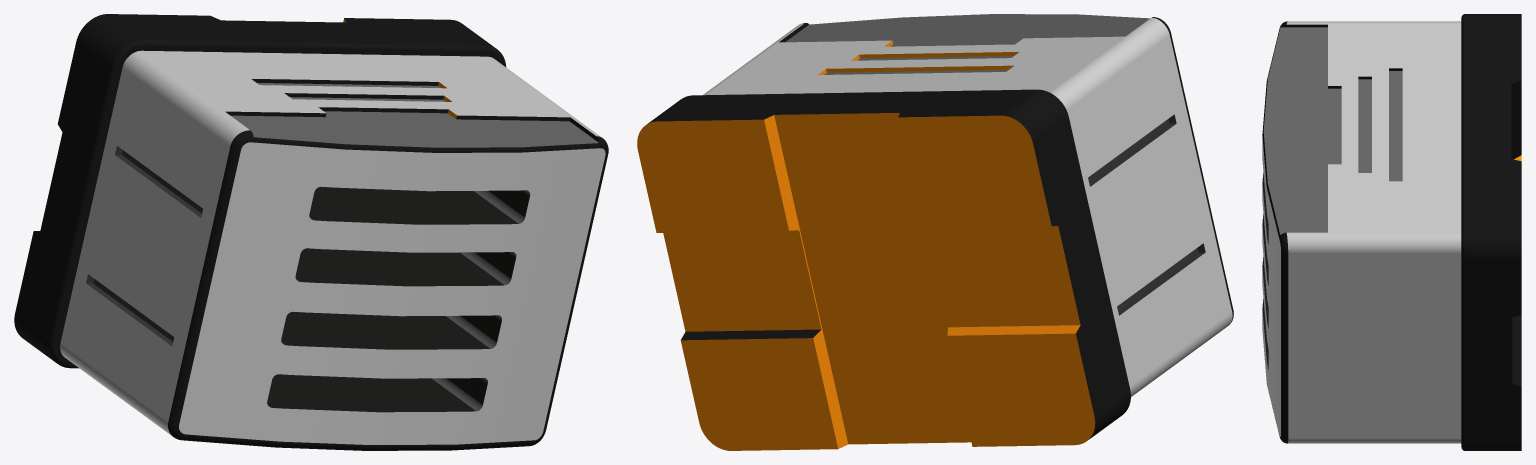
The model's file is toaster.obj.
3 views of the same model, side by side, from view 1: azimuth 30°, elevation 25°; view 2: azimuth 150°, elevation 25°; view 3: azimuth 270°, elevation 25° (orthographic). The views are drawn at different scales.
Visible parts, largest first — view 1: mesh74, mesh63, mesh22, mesh48, mesh18, mesh53, mesh77, mesh86, mesh104, mesh95, mesh33, mesh12 (+16 smaller); view 2: mesh55, mesh63, mesh22, mesh57, mesh56, mesh47, mesh46, mesh61, mesh50, mesh48, mesh18, mesh53 (+10 smaller); view 3: mesh2, mesh22, mesh18, mesh53, mesh58, mesh11, mesh74, mesh45, mesh32, mesh8, mesh27, mesh1 (+8 smaller).
Boxes of the visible parts, x1=… form: mesh74: x1=179, y1=142, x2=605, y2=444; mesh63: x1=60, y1=68, x2=230, y2=421; mesh22: x1=142, y1=50, x2=569, y2=117; mesh48: x1=15, y1=42, x2=110, y2=338; mesh18: x1=231, y1=111, x2=598, y2=147; mesh53: x1=109, y1=14, x2=484, y2=45; mesh77: x1=295, y1=248, x2=503, y2=286; mesh86: x1=281, y1=311, x2=490, y2=349; mesh104: x1=309, y1=186, x2=518, y2=224; mesh95: x1=267, y1=374, x2=475, y2=412; mesh33: x1=55, y1=45, x2=503, y2=365; mesh12: x1=122, y1=50, x2=249, y2=145; mesh55: x1=774, y1=113, x2=971, y2=444; mesh63: x1=1067, y1=35, x2=1231, y2=385; mesh22: x1=707, y1=36, x2=1124, y2=94; mesh57: x1=680, y1=338, x2=837, y2=450; mesh56: x1=637, y1=119, x2=788, y2=232; mesh47: x1=947, y1=333, x2=1095, y2=446; mesh46: x1=898, y1=115, x2=1051, y2=228; mesh61: x1=663, y1=230, x2=821, y2=331; mesh50: x1=926, y1=226, x2=1080, y2=327; mesh48: x1=1033, y1=118, x2=1129, y2=415; mesh18: x1=785, y1=14, x2=1149, y2=46; mesh53: x1=658, y1=90, x2=1035, y2=121; mesh2: x1=1288, y1=253, x2=1461, y2=437; mesh22: x1=1328, y1=24, x2=1461, y2=232; mesh18: x1=1263, y1=27, x2=1341, y2=234; mesh53: x1=1465, y1=19, x2=1521, y2=225; mesh58: x1=1465, y1=260, x2=1521, y2=441; mesh11: x1=1286, y1=232, x2=1461, y2=253; mesh74: x1=1262, y1=135, x2=1280, y2=436; mesh45: x1=1465, y1=225, x2=1521, y2=259; mesh32: x1=1389, y1=71, x2=1402, y2=181; mesh8: x1=1281, y1=250, x2=1288, y2=437; mesh27: x1=1358, y1=79, x2=1371, y2=172; mesh1: x1=1288, y1=438, x2=1461, y2=443.
Bounding box in the file's own units: 0.0158 × 0.0133 × 0.00969.
